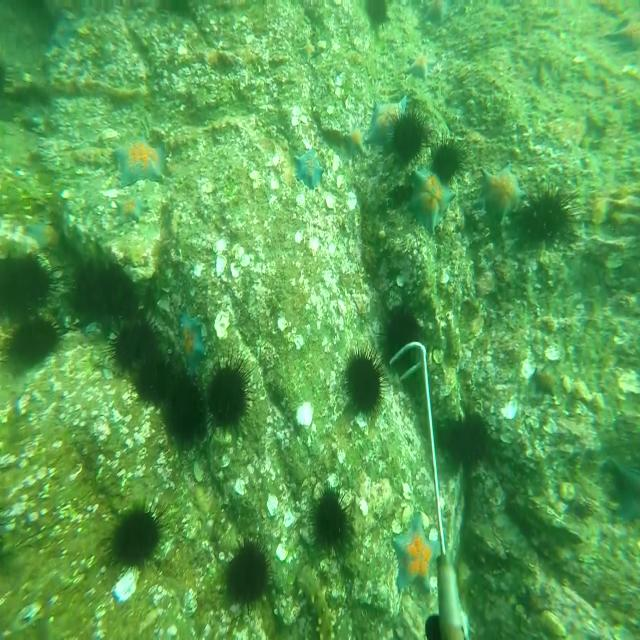echinus: (0, 247, 62, 311), (106, 507, 170, 568), (521, 182, 577, 250), (225, 538, 275, 612), (306, 481, 356, 554), (204, 351, 253, 425), (340, 342, 388, 415), (109, 316, 163, 374), (5, 308, 63, 362), (172, 369, 208, 442), (384, 102, 429, 158), (429, 126, 464, 189), (139, 348, 174, 401), (362, 0, 392, 32)
starfish: (390, 511, 445, 594), (112, 127, 172, 185), (411, 163, 456, 232), (479, 158, 525, 221), (368, 91, 413, 152), (170, 310, 211, 374), (294, 143, 324, 187), (113, 193, 149, 227), (29, 214, 62, 249), (406, 44, 436, 80), (344, 124, 366, 163)
